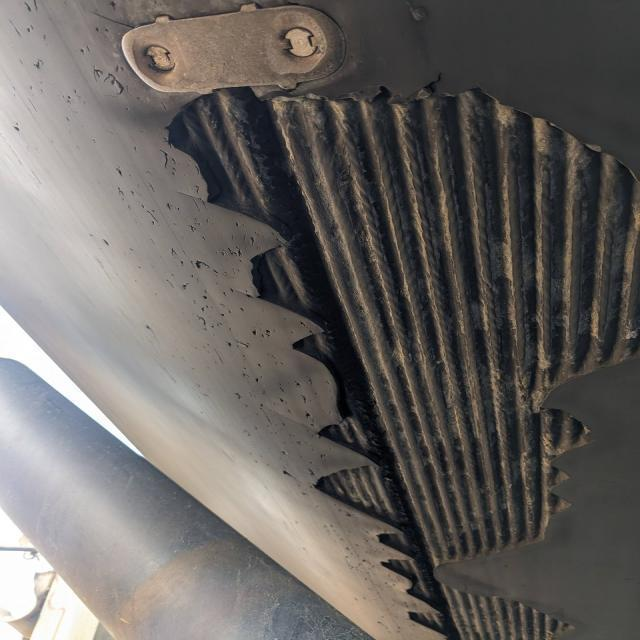Puncture: (306, 412, 310, 419)
Tear: (159, 77, 640, 640)
